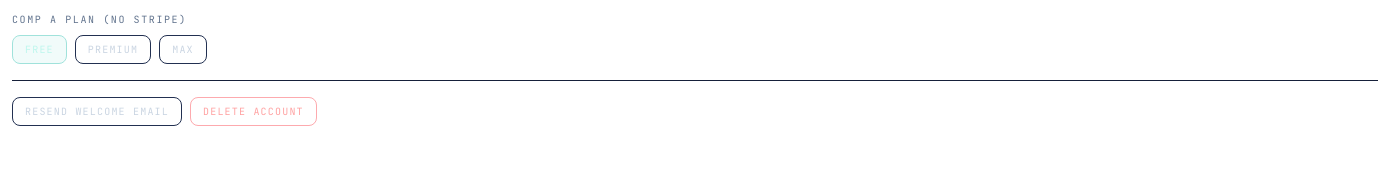
Test case: UserActions plan controls › surfaces the hint from a refused request
The image size is (1378, 177).
Click the button "premium" at (113, 50), box x1=75 y1=35 x2=151 y2=64
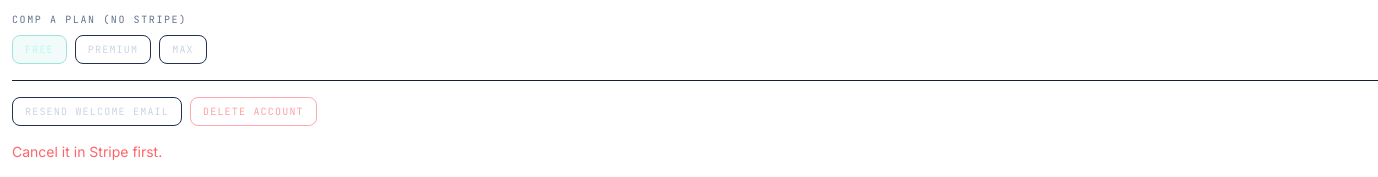
Now the text "Cancel it in Stripe first." is shown, box x1=12 y1=143 x2=162 y2=160
